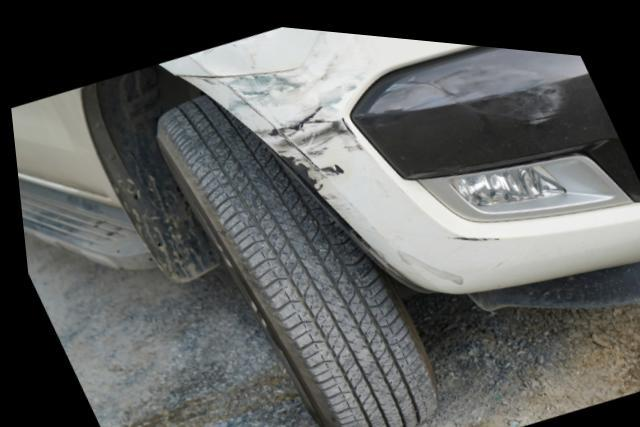scratch: (201, 21, 367, 206), (444, 226, 497, 233)
